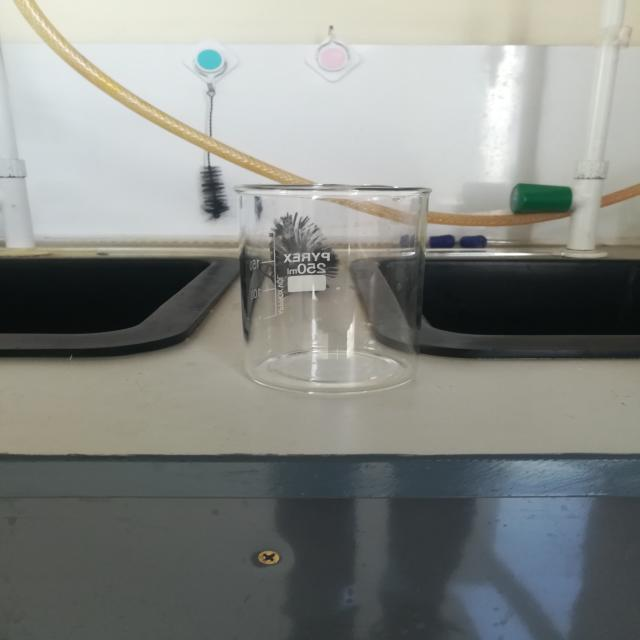Beaker: (170, 147, 496, 422)
